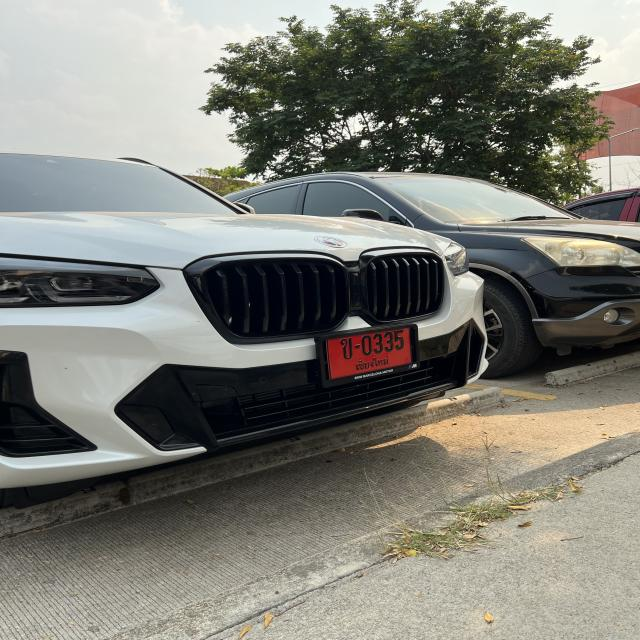license_plate: (315, 322, 419, 388)
